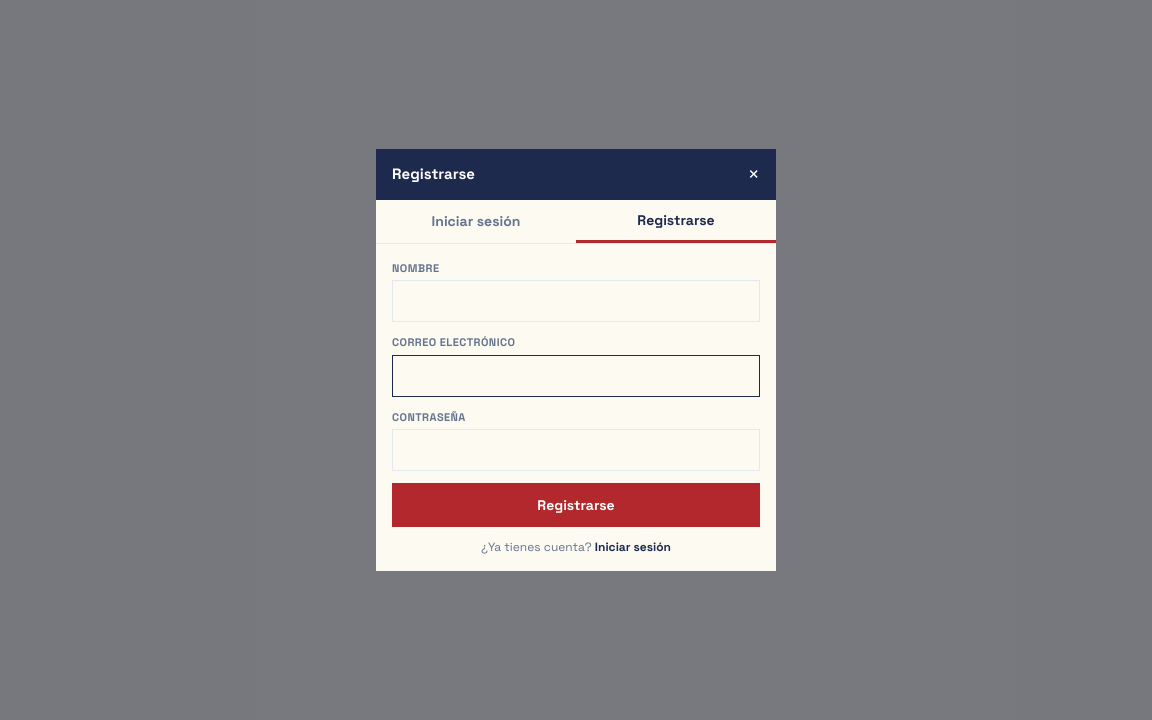
Test: AuthModal › signup shows the check-your-email code screen WITHOUT signing in
Type "Coach" into the field labelled "Nombre" at (576, 301), box [392,280,760,322]
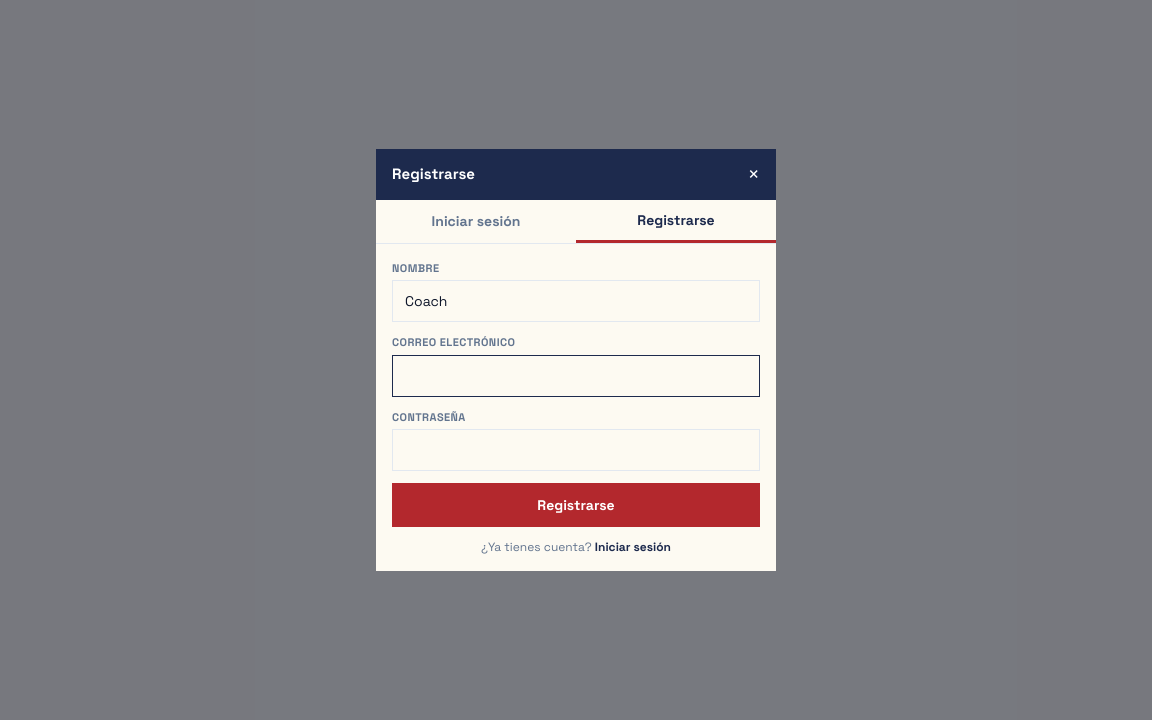
Type "coach@example.com" into the field labelled "Correo electrónico" at (576, 376), box [392,354,760,396]
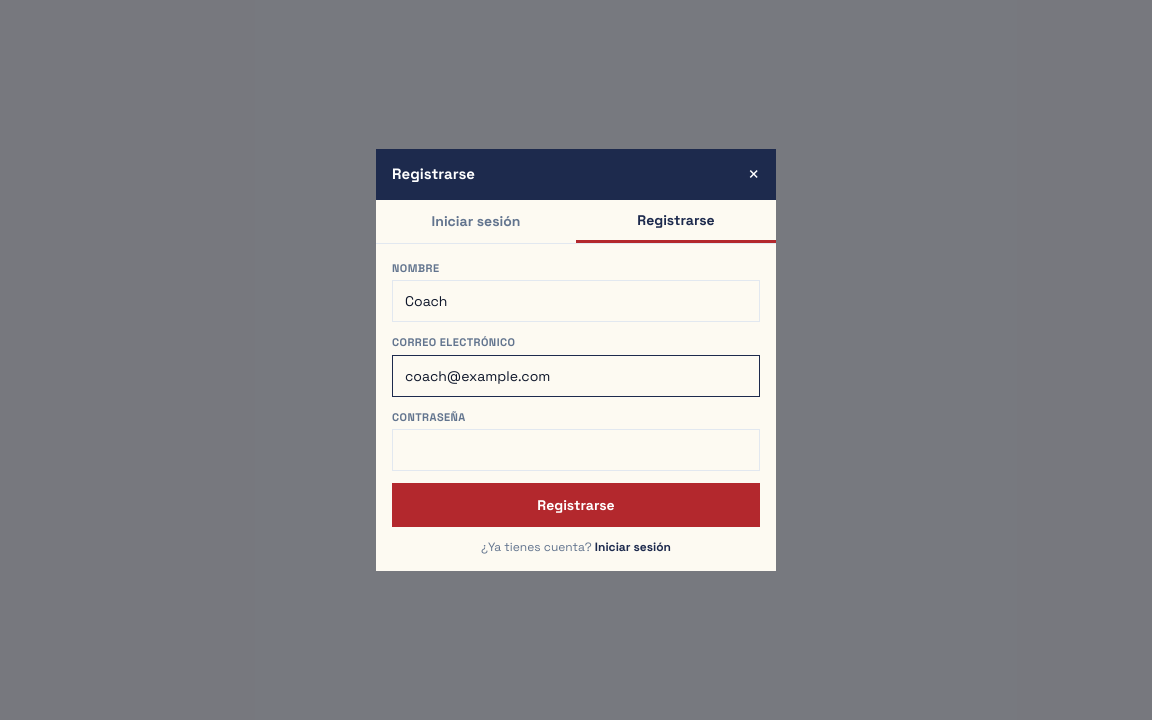
Type "SuperSecret123!" into the password field labelled "Contraseña" at (576, 450), box [392,429,760,471]
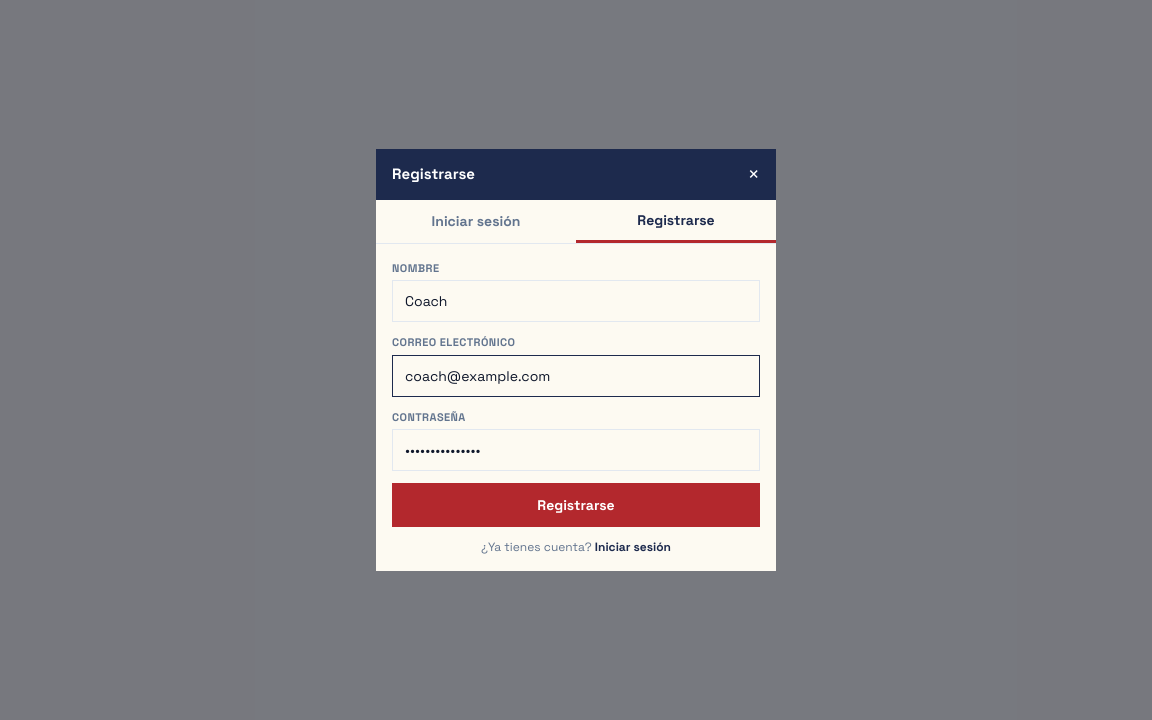
Click the button "Registrarse" below "Contraseña" at (576, 505), box [392,483,760,527]
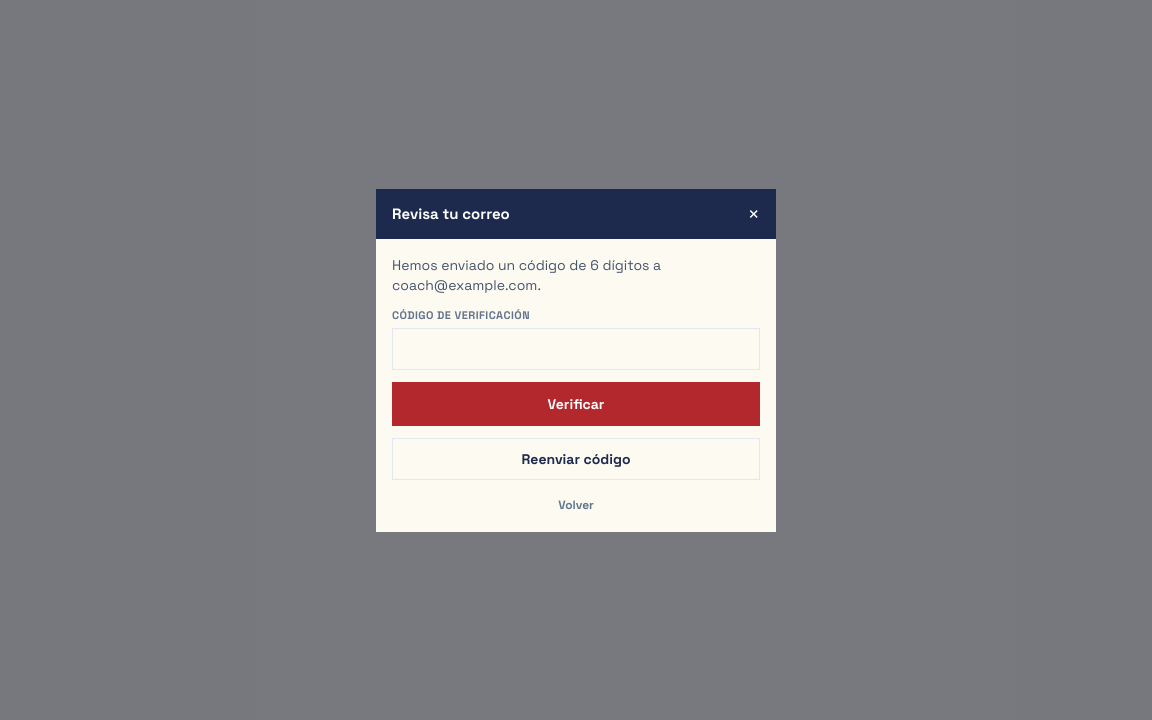
Now the field labelled "Código de verificación" is shown, box [392,328,760,370]
Now the text "Hemos enviado un código de 6 dígitos a coach@example.com." is shown, box [392,256,661,294]
